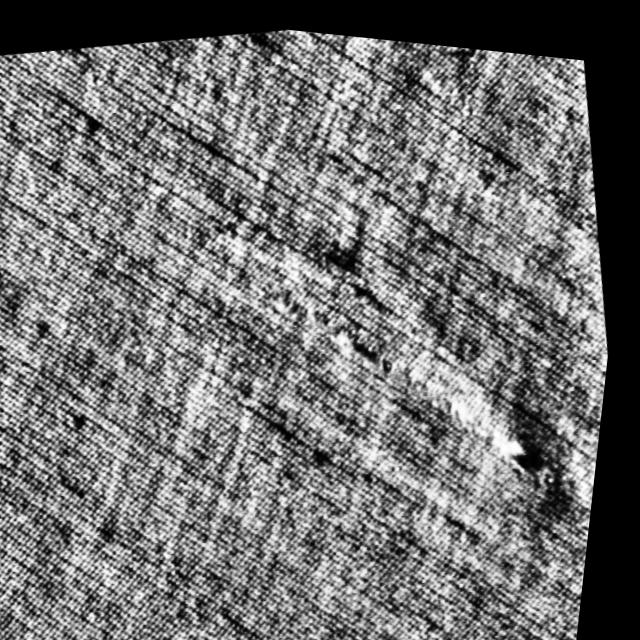Stitch: (256, 227, 596, 534)
